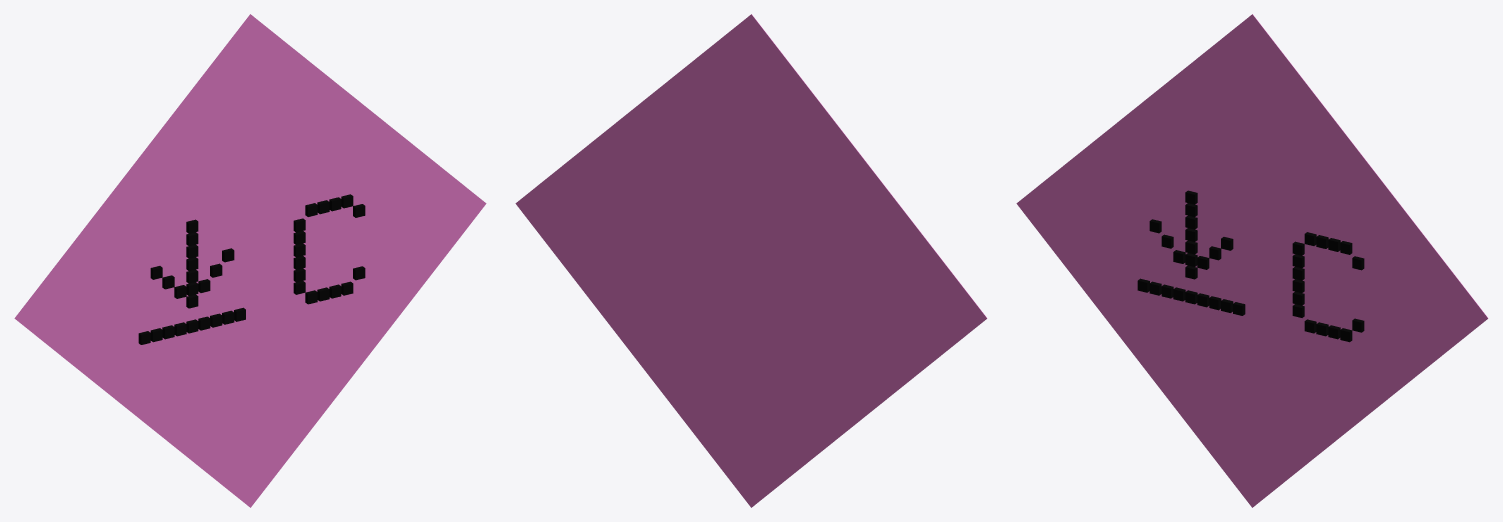
Rendered from ChangeAreaTypeC.fbx.
3 views of the same model, side by side, from view 1: azimuth 30°, elevation 25°; view 2: azimuth 150°, elevation 25°; view 3: azimuth 330°, elevation 25° (orthographic).
Parts seen in each view (by area): view 1: Cube.039; view 2: Cube.039; view 3: Cube.039.
Part boxes in pixels (<box>): Cube.039: <box>14,14,486,507</box>; Cube.039: <box>515,14,987,507</box>; Cube.039: <box>1016,14,1488,507</box>.
Bounding box in the file's own units: 198 × 198 × 2.1.
